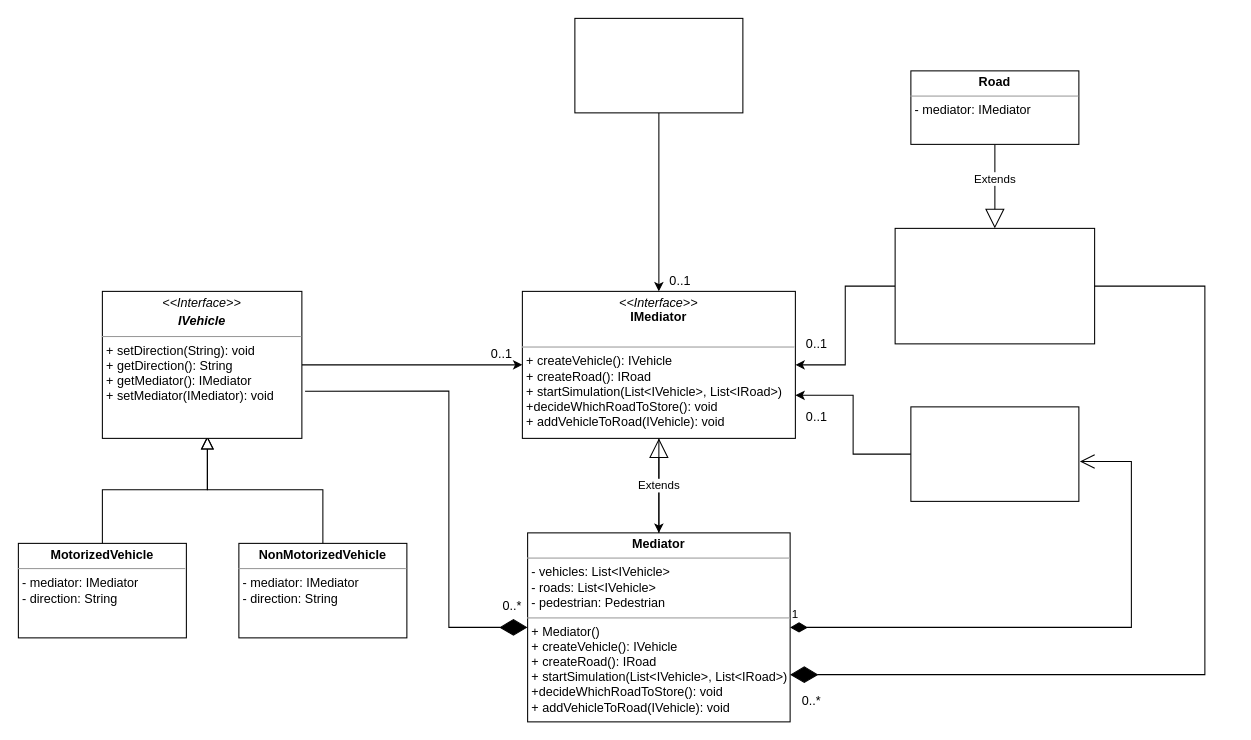
Image size: 1251x740. Some labels were removed from this diagram. Each missing label, with the centre of its shape:
"<<Interface>> IRoad + getMediator(): IMediator + setMediator(IMediator): void" goes at (994,285).
"Pedestrian + field: Type + method(): Type" goes at (994,453).
"Simulation + mediator: IMediator + method(): Type" goes at (658,65).
